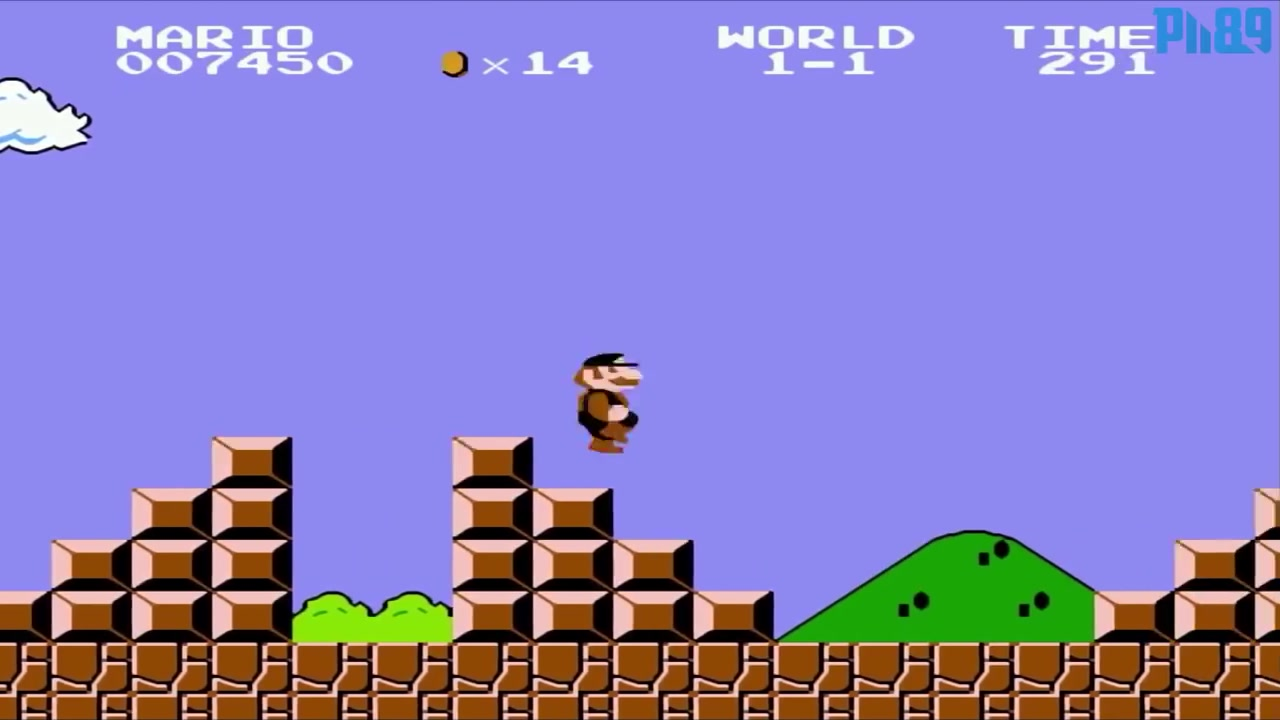mario: (567, 347, 645, 462)
